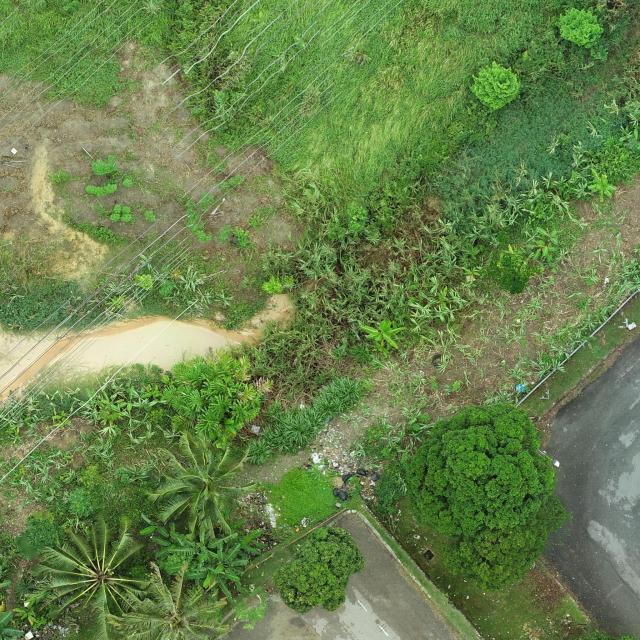Tree: (403, 402, 568, 595), (29, 513, 150, 640), (145, 429, 262, 543), (161, 346, 275, 442), (104, 557, 229, 640), (273, 524, 364, 614), (187, 541, 249, 606), (169, 521, 238, 574), (469, 61, 524, 111), (150, 521, 196, 573), (555, 6, 605, 49), (359, 319, 406, 349), (587, 168, 618, 202), (68, 488, 95, 518), (140, 512, 169, 538)
